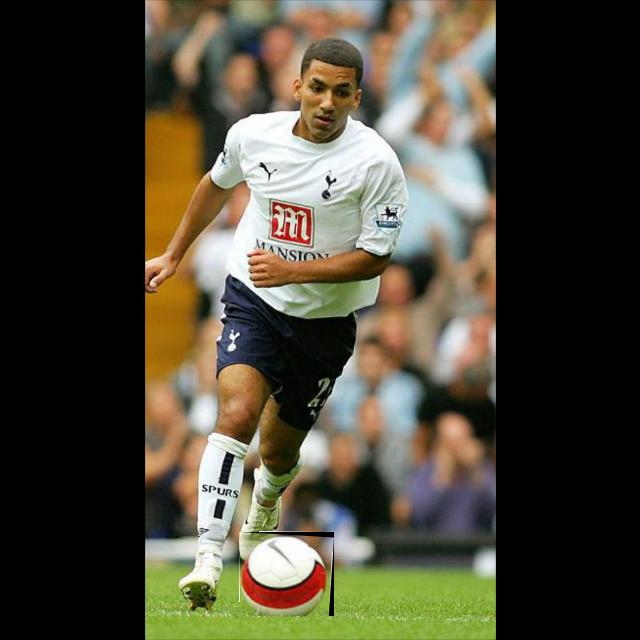Football: (240, 532, 334, 616)
